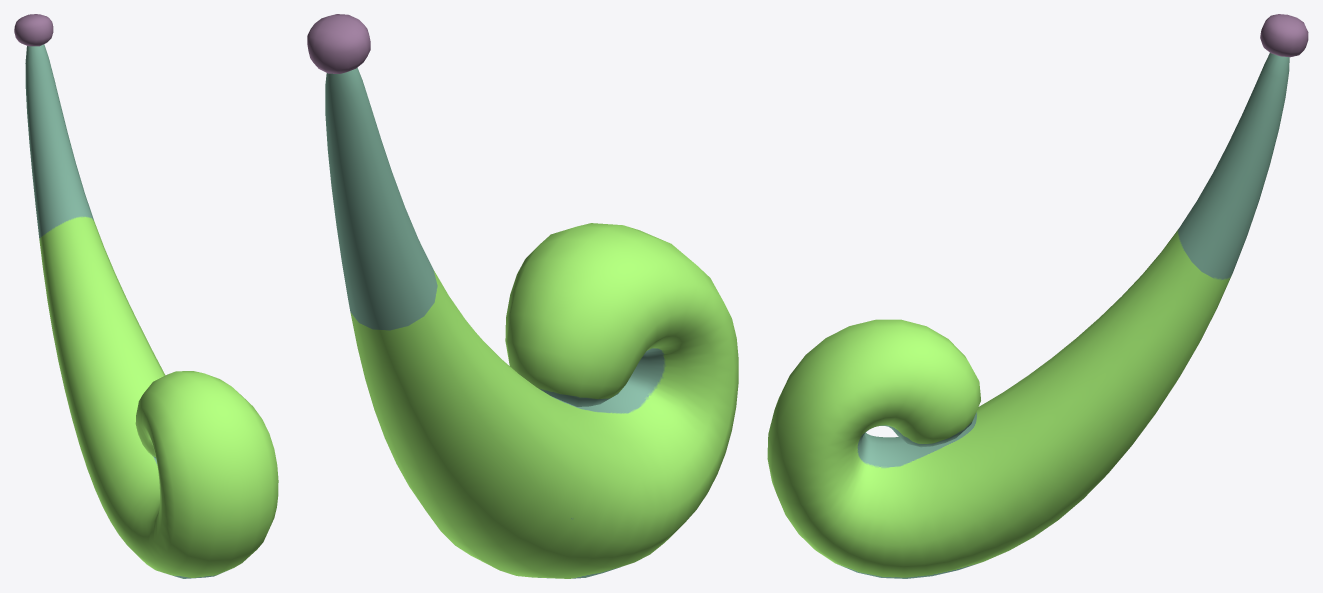
Rendered from Hair_baked_1.obj.
The picture shows the model from 3 angles, left to right: view 1: azimuth 30°, elevation 25°; view 2: azimuth 150°, elevation 25°; view 3: azimuth 270°, elevation 25°; orthographic projection. The views are drawn at different scales.
Size of the model in its own units: 0.0868 by 0.3239 by 0.2868.
Materials: 1 (1 with a texture image).
